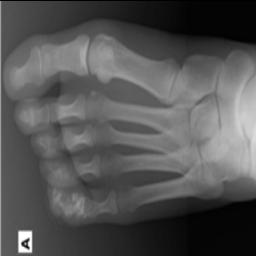cancer: (48, 185, 96, 223)
